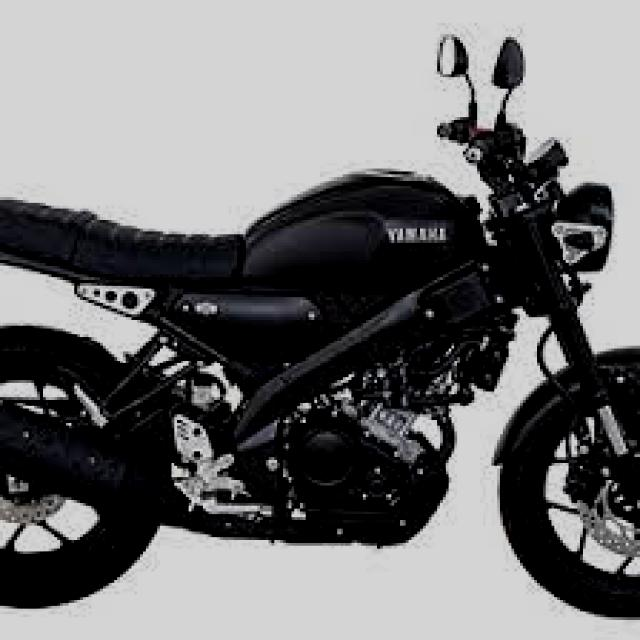MOTORCYCLE: (0, 136, 640, 618)
